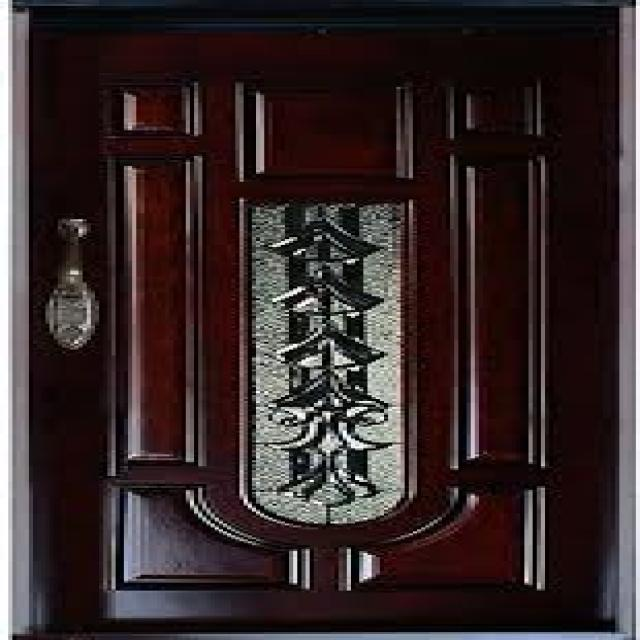door: (17, 6, 628, 638)
